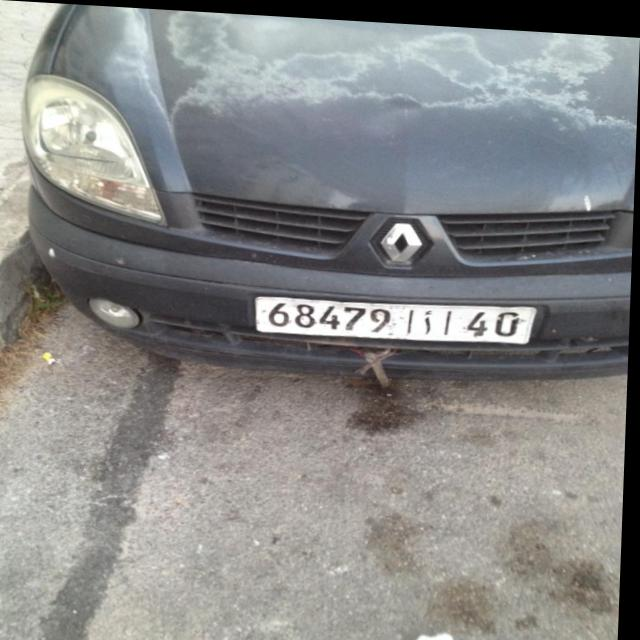License-Plate: (257, 293, 539, 337)
